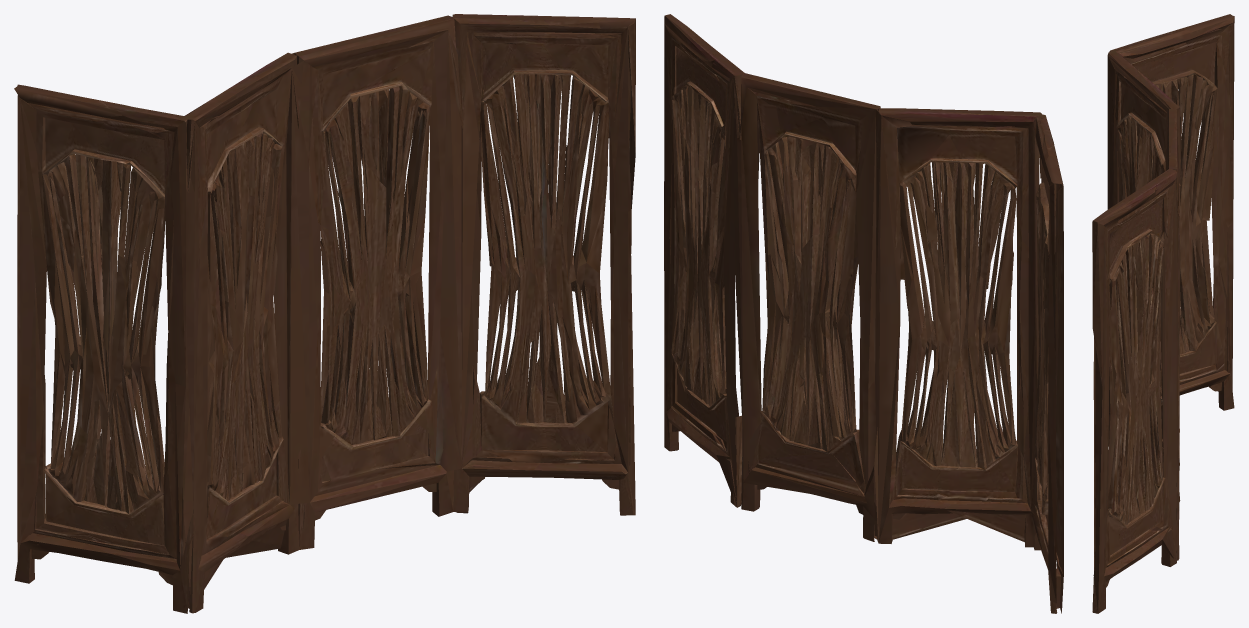
File: loungeScreen-medio.glb
3 views of the same model, side by side, from view 1: azimuth 30°, elevation 25°; view 2: azimuth 150°, elevation 25°; view 3: azimuth 270°, elevation 25° (orthographic). The views are drawn at different scales.
Bounding box in the file's own units: 1.9 × 1.67 × 0.5473.
1 material, 1 textured.
